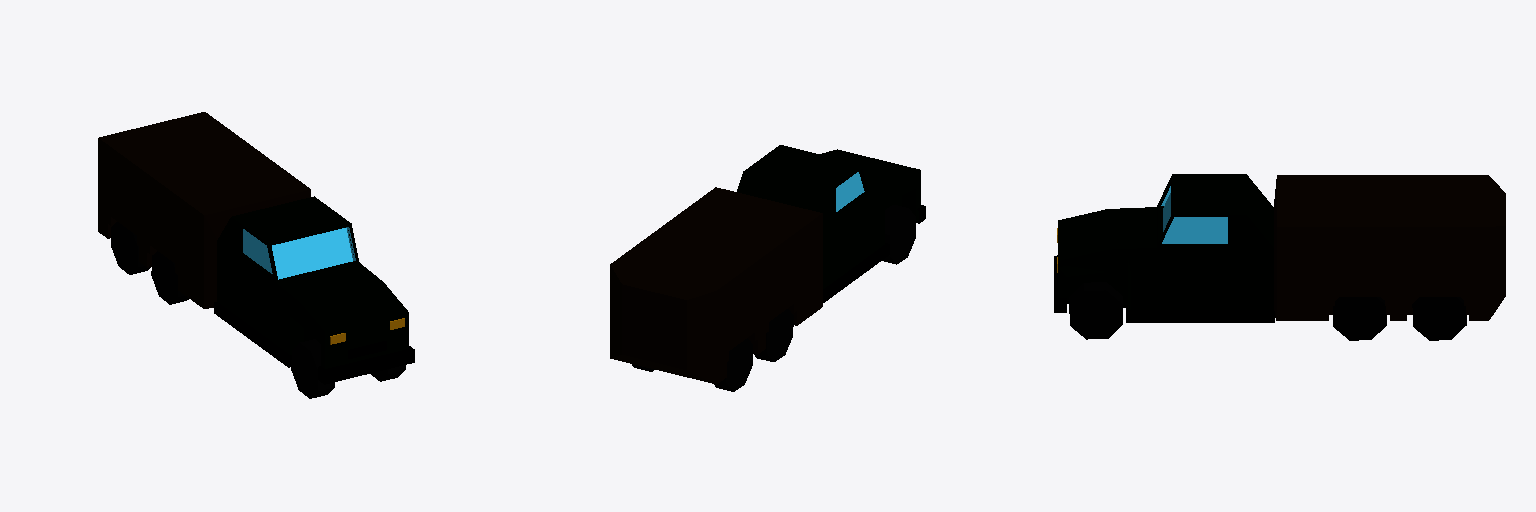
File: car.obj
3 views of the same model, side by side, from view 1: azimuth 30°, elevation 25°; view 2: azimuth 150°, elevation 25°; view 3: azimuth 270°, elevation 25° (orthographic).
Parts seen in each view (by area): view 1: Cube.002, Cube, Cylinder, Cube.001, Cube.004, Cube.005; view 2: Cube.002, Cube, Cylinder, Cube.005, Cube.001; view 3: Cube.002, Cube, Cylinder, Cube.005, Cube.001.
Part boxes in pixels (x1,y1,x2,y2): Cube.002: (98, 112, 310, 308); Cube: (217, 196, 408, 368); Cylinder: (111, 222, 405, 398); Cube.001: (243, 227, 355, 279); Cube.004: (318, 341, 414, 384); Cube.005: (214, 302, 291, 367); Cube.002: (610, 187, 822, 384); Cube: (737, 145, 920, 288); Cylinder: (632, 205, 915, 391); Cube.005: (823, 243, 889, 302); Cube.001: (836, 172, 864, 211); Cube.002: (1274, 175, 1505, 320); Cube: (1058, 174, 1273, 309); Cylinder: (1069, 282, 1466, 340); Cube.005: (1126, 306, 1274, 322); Cube.001: (1161, 186, 1227, 243).
Size of the model in its own units: 3.34 by 3.68 by 12.23.